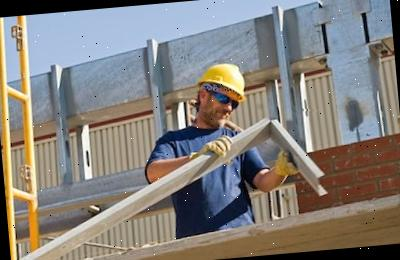helmet: (194, 62, 247, 106)
no_wear: (164, 127, 252, 239)
